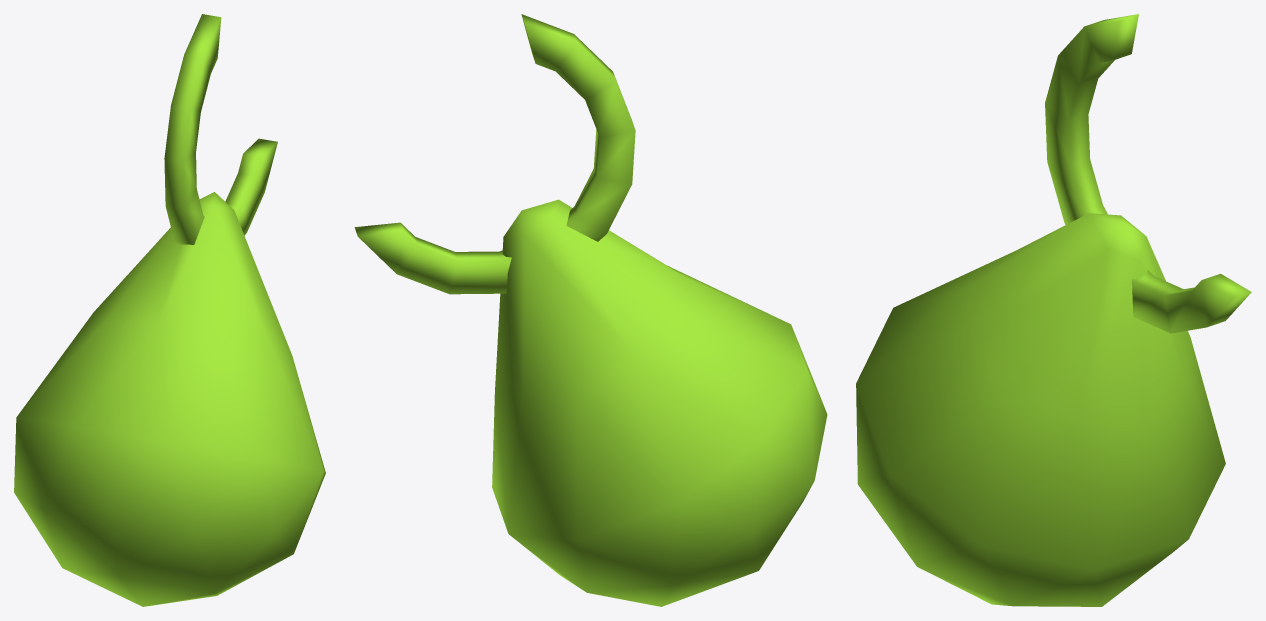
The model's file is ItemMoonPearFruit.fbx.
3 views of the same model, side by side, from view 1: azimuth 30°, elevation 25°; view 2: azimuth 150°, elevation 25°; view 3: azimuth 270°, elevation 25° (orthographic). The views are drawn at different scales.
Parts seen in each view (by area): view 1: MoonPearfruit; view 2: MoonPearfruit; view 3: MoonPearfruit.
Boxes of the visible parts, box(x1,y1,x2,y2) form: MoonPearfruit: box(14, 14, 325, 606); MoonPearfruit: box(354, 14, 827, 606); MoonPearfruit: box(856, 14, 1251, 606).
Bounding box in the file's own units: 19.69 × 30.14 × 17.5.
